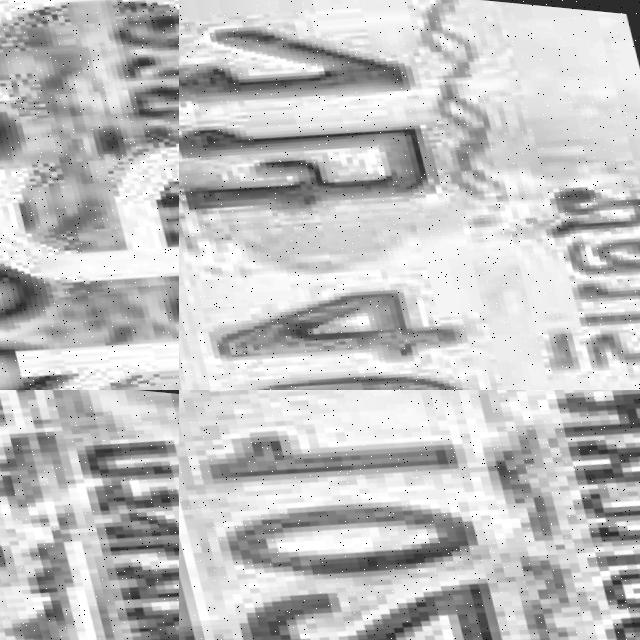license-plate: (179, 0, 640, 390), (179, 390, 640, 640), (0, 0, 179, 390), (0, 390, 179, 640)
